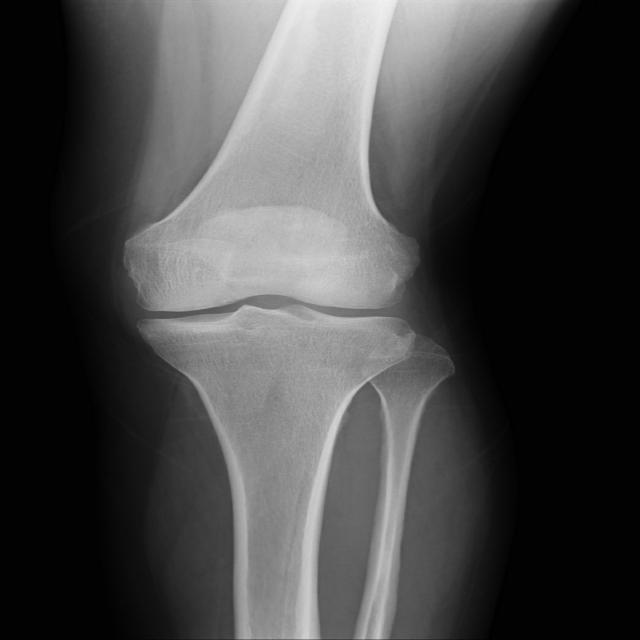normal: (114, 223, 426, 361)
